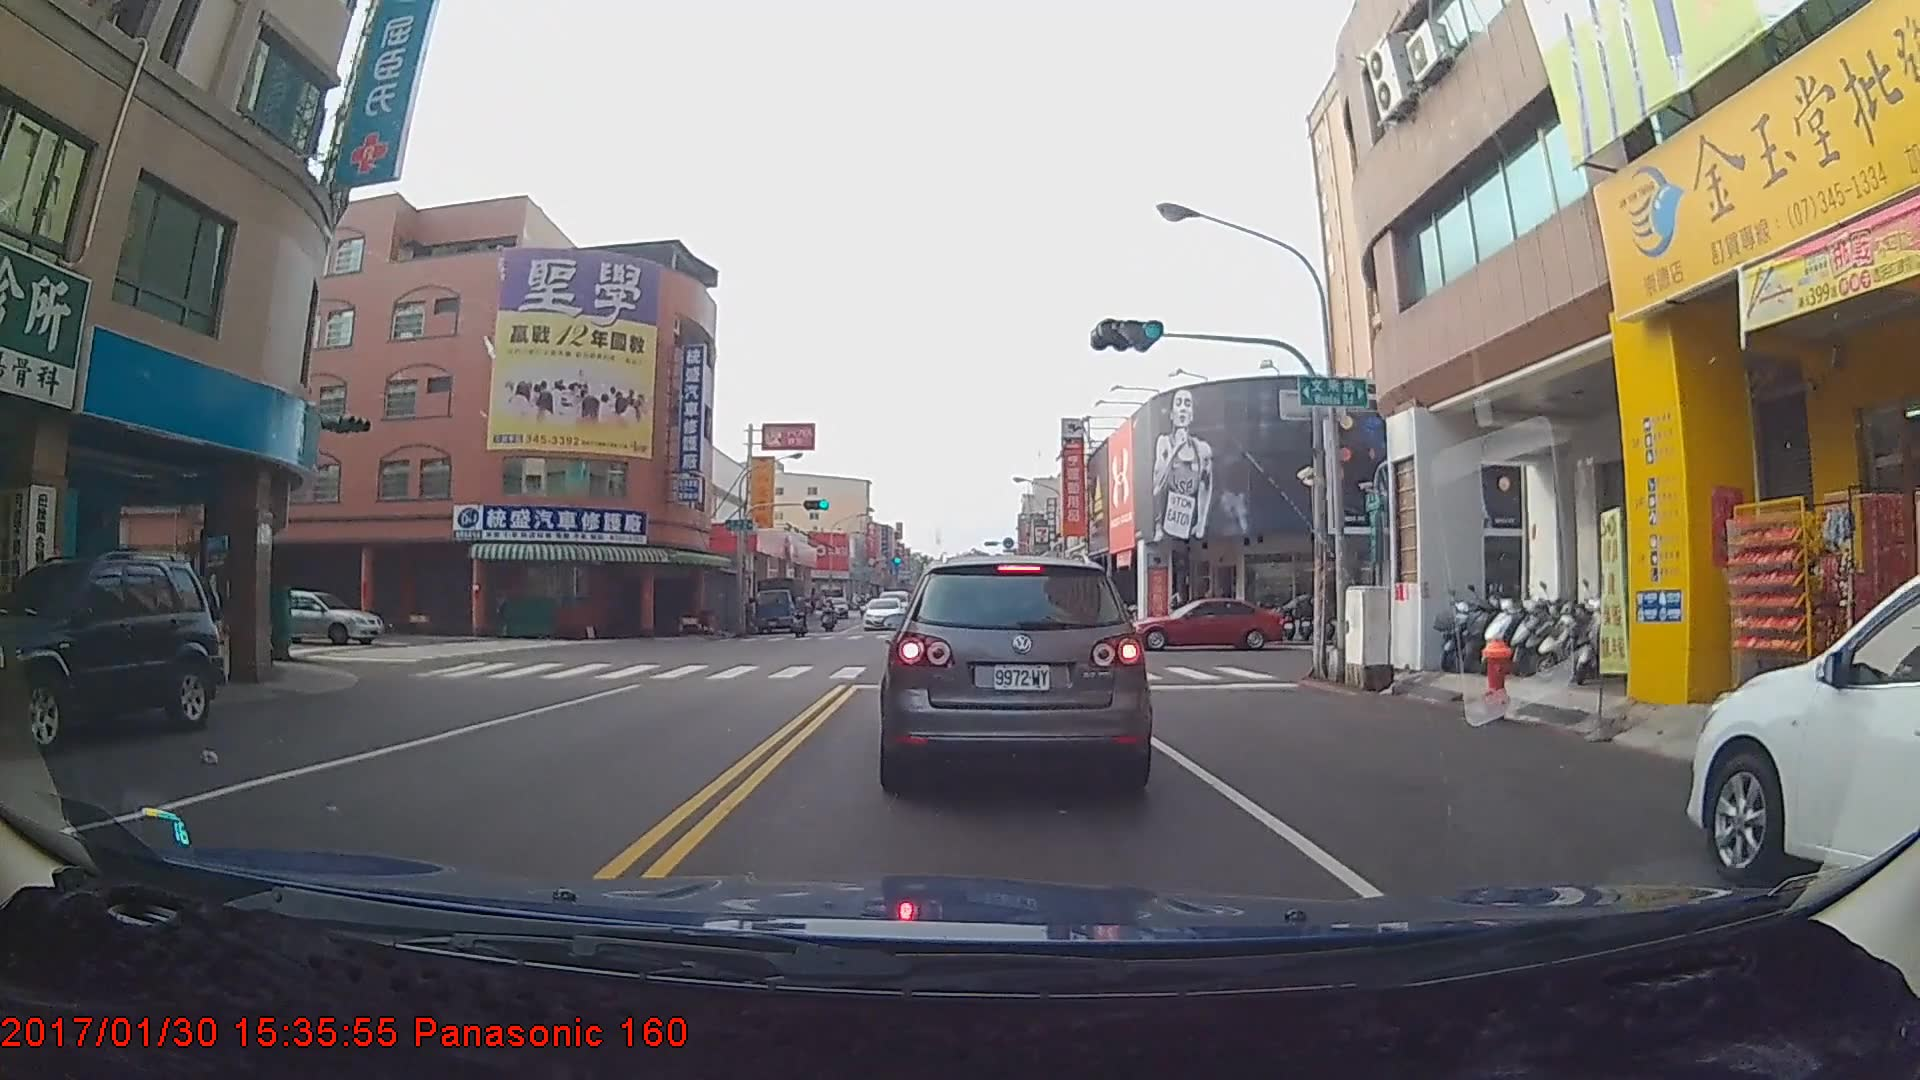rider: (785, 593, 814, 635), (822, 594, 845, 633)
vehicle: (1690, 537, 1920, 941), (886, 550, 1148, 791), (0, 548, 214, 748), (1125, 594, 1287, 649), (240, 582, 388, 638), (752, 576, 807, 634), (860, 593, 905, 630)
